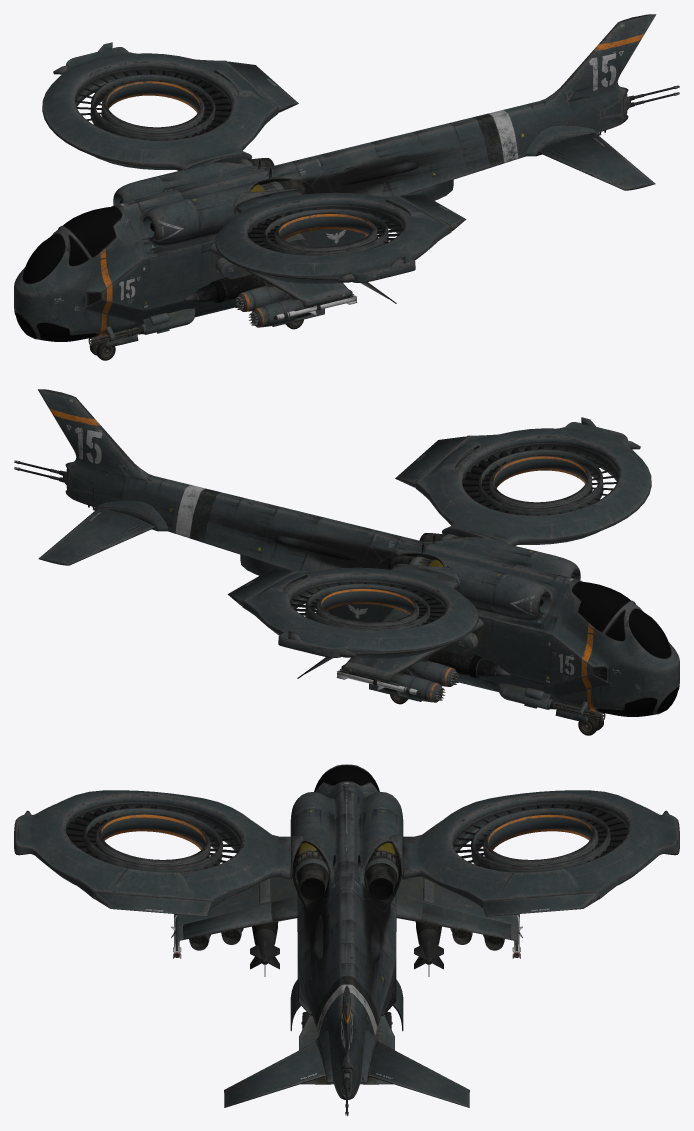
File: helicopter.glb
The picture shows the model from 3 angles, top to bottom: view 1: azimuth 30°, elevation 25°; view 2: azimuth 150°, elevation 25°; view 3: azimuth 270°, elevation 25°; orthographic projection. The views are drawn at different scales.
Visible parts, largest first — view 1: desirefx.me_001_0, desirefx.me_002_1; view 2: desirefx.me_001_0, desirefx.me_002_1; view 3: desirefx.me_002_1, desirefx.me_001_0.
Part boxes in pixels (left/top/right/bottom): desirefx.me_001_0: left=14, top=14, right=679, bottom=347; desirefx.me_002_1: left=42, top=42, right=466, bottom=346; desirefx.me_001_0: left=14, top=389, right=679, bottom=722; desirefx.me_002_1: left=227, top=417, right=651, bottom=721; desirefx.me_002_1: left=14, top=790, right=679, bottom=976; desirefx.me_001_0: left=224, top=764, right=469, bottom=1116.
Bounding box in the file's own units: 0.1367 × 0.0413 × 0.1062.
4 materials, 4 textured.
